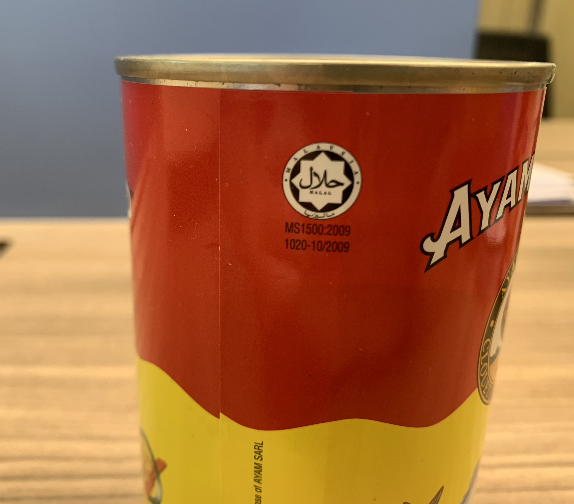halal: (292, 152, 344, 206)
